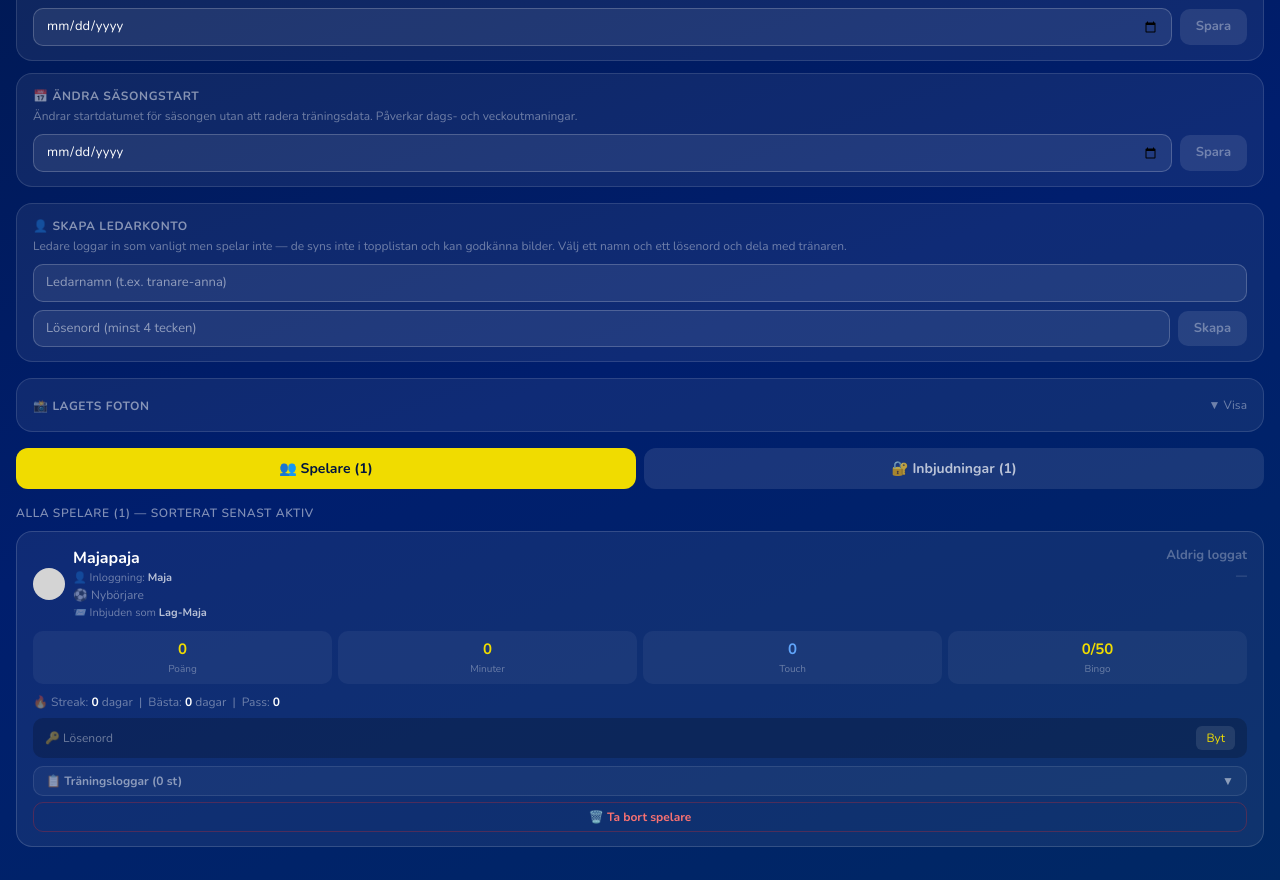
it: AdminPage › switches to the invites tab
This screenshot has width=1280, height=880.
(page scrolled)
Click the button "🔐 Inbjudningar (1)": (954, 469) [644, 448, 1264, 489]
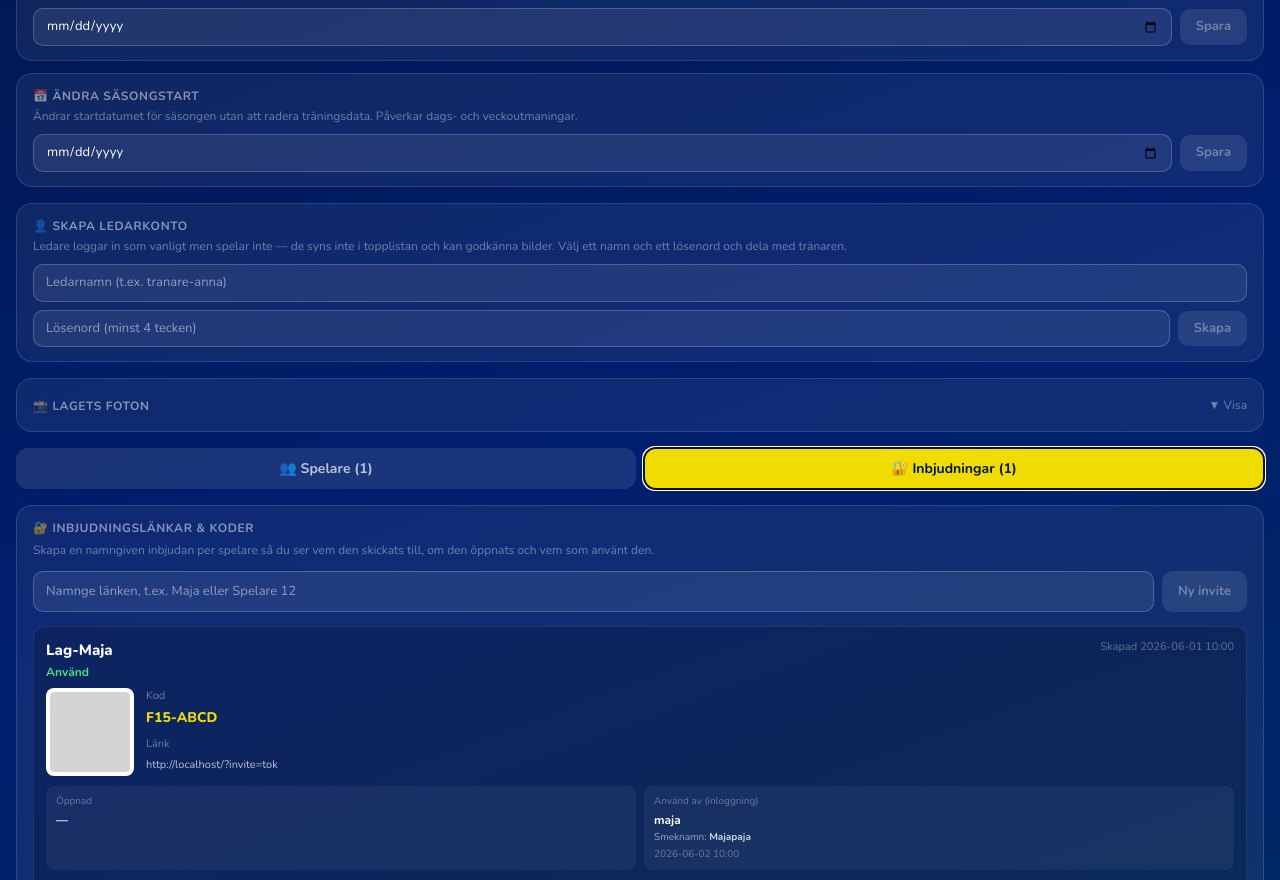
Expected: the text "🔐 Inbjudningslänkar & koder" is shown, [33, 520, 254, 536]
